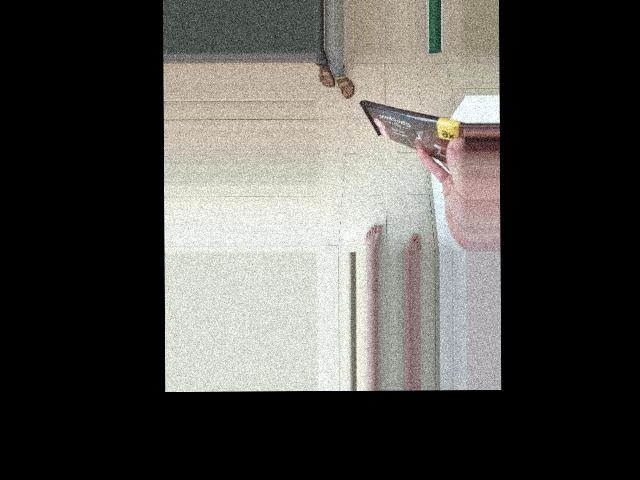chocolate: (349, 95, 417, 201)
